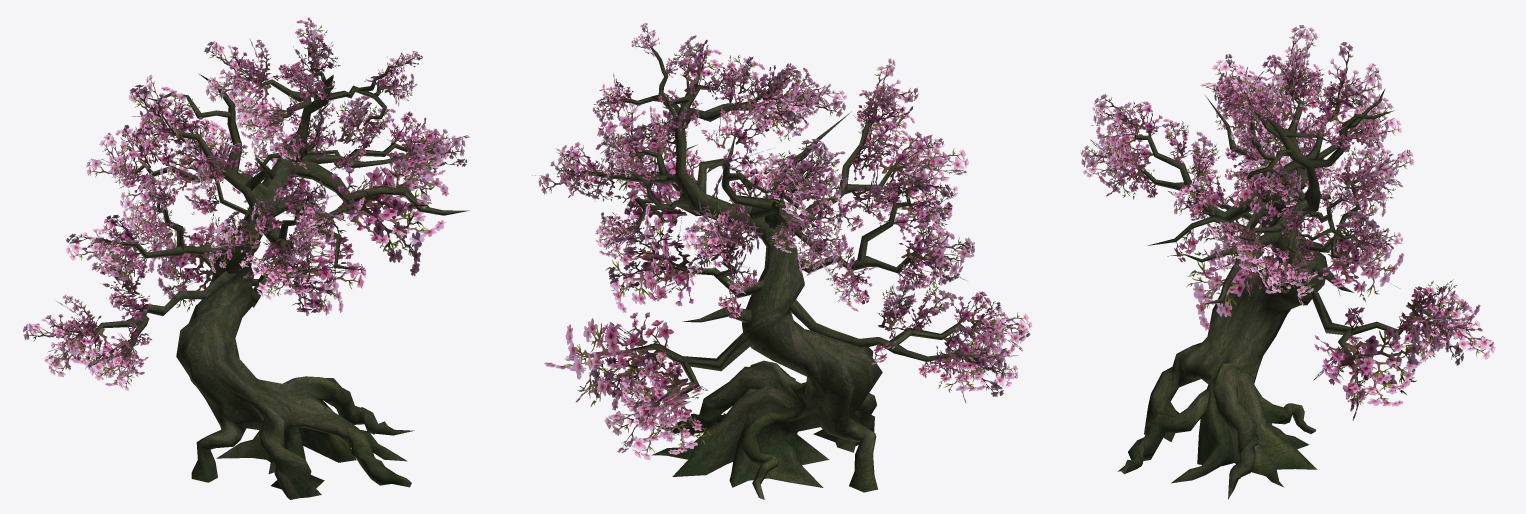
File: ZYtree_gg_taoshu02.FBX
The picture shows the model from 3 angles, left to right: view 1: azimuth 30°, elevation 25°; view 2: azimuth 150°, elevation 25°; view 3: azimuth 270°, elevation 25°; orthographic projection. The views are drawn at different scales.
Parts seen in each view (by area): view 1: ZYtree_gg_taoshu02; view 2: ZYtree_gg_taoshu02; view 3: ZYtree_gg_taoshu02.
Boxes of the visible parts, left/top/right/bottom form: ZYtree_gg_taoshu02: left=23, top=17, right=469, bottom=499; ZYtree_gg_taoshu02: left=531, top=23, right=1032, bottom=499; ZYtree_gg_taoshu02: left=1080, top=25, right=1495, bottom=499.
Size of the model in its own units: 1193 by 1061 by 1012.
